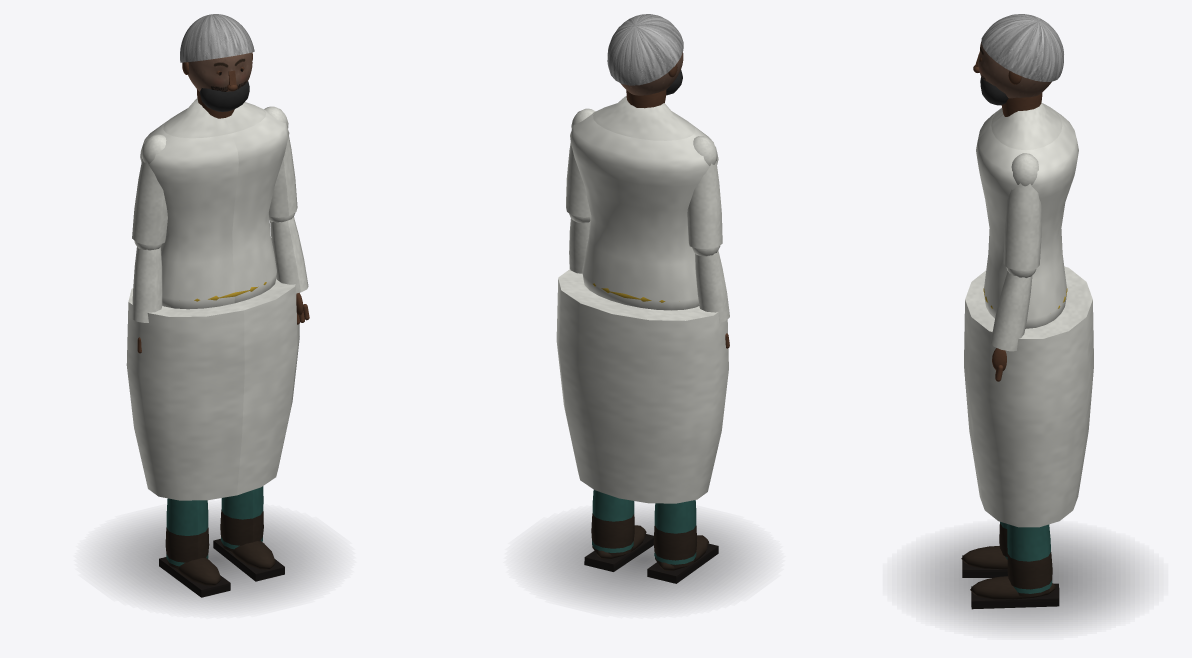
Rendered from npc_doc_osei.glb.
The picture shows the model from 3 angles, left to right: view 1: azimuth 30°, elevation 25°; view 2: azimuth 150°, elevation 25°; view 3: azimuth 270°, elevation 25°; orthographic projection. The views are drawn at different scales.
Parts seen in each view (by area): view 1: object 7, chest, object 12, head, shinL, shinR, armL, foreR, foreL, armR; view 2: object 7, chest, object 12, head, shinL, shinR, armL, foreL, armR, foreR; view 3: object 7, chest, object 12, head, shinR, armR, foreR, shinL.
Part boxes in pixels (x1=…): object 7: x1=126, y1=278, x2=299, y2=500; chest: x1=140, y1=89, x2=289, y2=309; object 12: x1=102, y1=511, x2=327, y2=606; head: x1=180, y1=14, x2=254, y2=111; shinL: x1=159, y1=498, x2=230, y2=597; shinR: x1=213, y1=486, x2=284, y2=581; armL: x1=132, y1=134, x2=167, y2=245; foreR: x1=269, y1=213, x2=309, y2=324; foreL: x1=132, y1=240, x2=162, y2=353; armR: x1=264, y1=106, x2=297, y2=217; object 7: x1=556, y1=269, x2=728, y2=503; chest: x1=570, y1=90, x2=718, y2=310; object 12: x1=532, y1=512, x2=756, y2=606; head: x1=607, y1=14, x2=683, y2=95; shinL: x1=647, y1=500, x2=718, y2=583; shinR: x1=584, y1=490, x2=653, y2=571; armL: x1=687, y1=136, x2=722, y2=248; foreL: x1=691, y1=245, x2=729, y2=348; armR: x1=566, y1=108, x2=595, y2=217; foreR: x1=569, y1=213, x2=590, y2=273; object 7: x1=964, y1=266, x2=1093, y2=527; chest: x1=976, y1=93, x2=1078, y2=328; object 12: x1=911, y1=532, x2=1139, y2=627; head: x1=973, y1=14, x2=1063, y2=105; shinR: x1=970, y1=524, x2=1059, y2=609; armR: x1=1003, y1=153, x2=1041, y2=270; foreR: x1=990, y1=267, x2=1036, y2=381; shinL: x1=961, y1=522, x2=1007, y2=577.
Bounding box in the file's own units: 0.868 × 1.79 × 0.868.
Materials: 7 (6 with a texture image).
